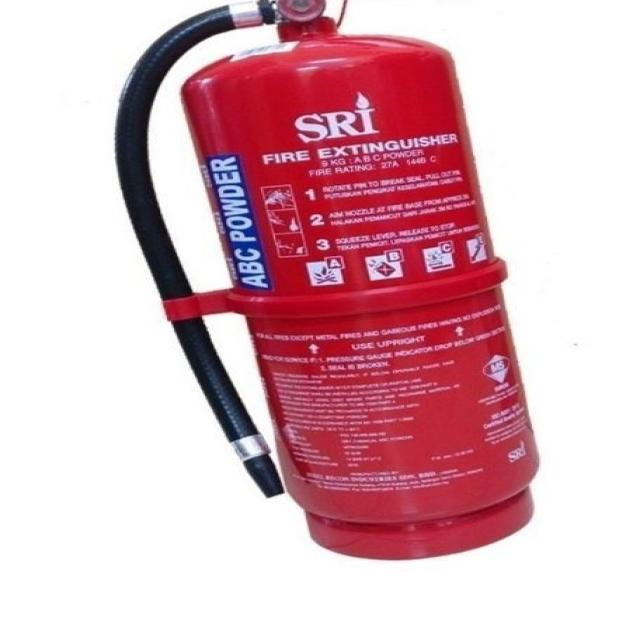fire_extinguisher: (103, 0, 548, 563)
